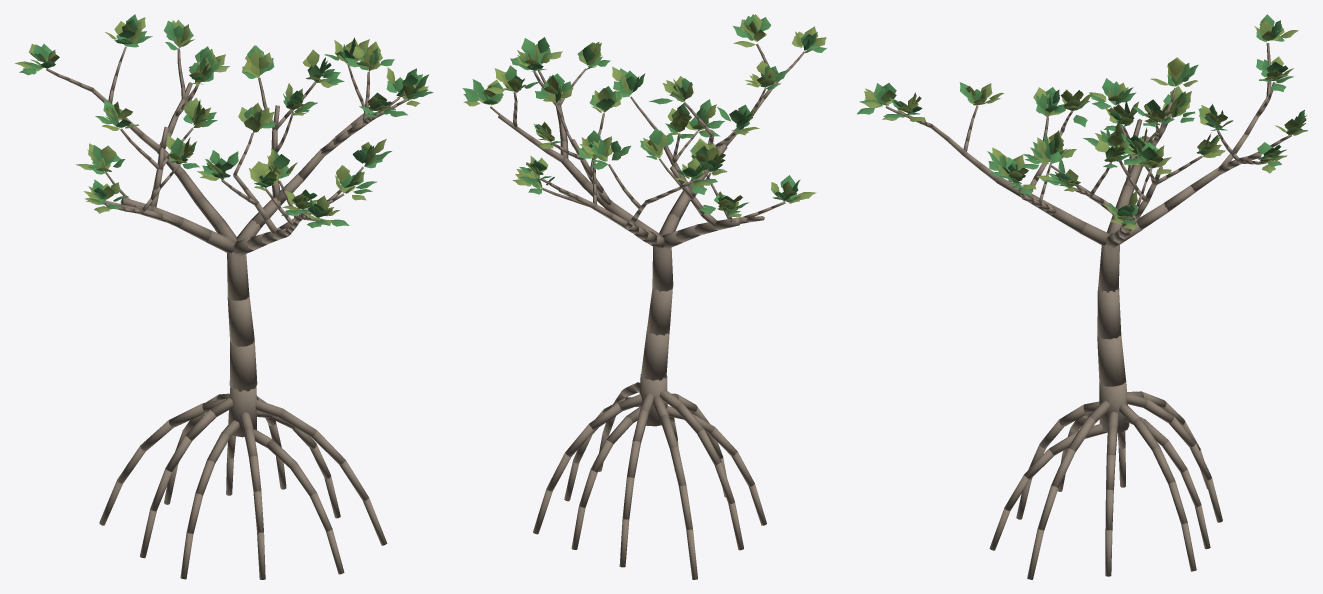
File: tree_mangrove.aef028eb.glb
3 views of the same model, side by side, from view 1: azimuth 30°, elevation 25°; view 2: azimuth 150°, elevation 25°; view 3: azimuth 270°, elevation 25° (orthographic). The views are drawn at different scales.
Parts seen in each view (by area): view 1: tree_mangrove; view 2: tree_mangrove; view 3: tree_mangrove.
Boxes of the visible parts, x1,y1,x2,y2 form: tree_mangrove: [15, 14, 433, 579]; tree_mangrove: [462, 14, 826, 579]; tree_mangrove: [857, 14, 1307, 579].
Size of the model in its own units: 6.28 by 8.09 by 7.24.
